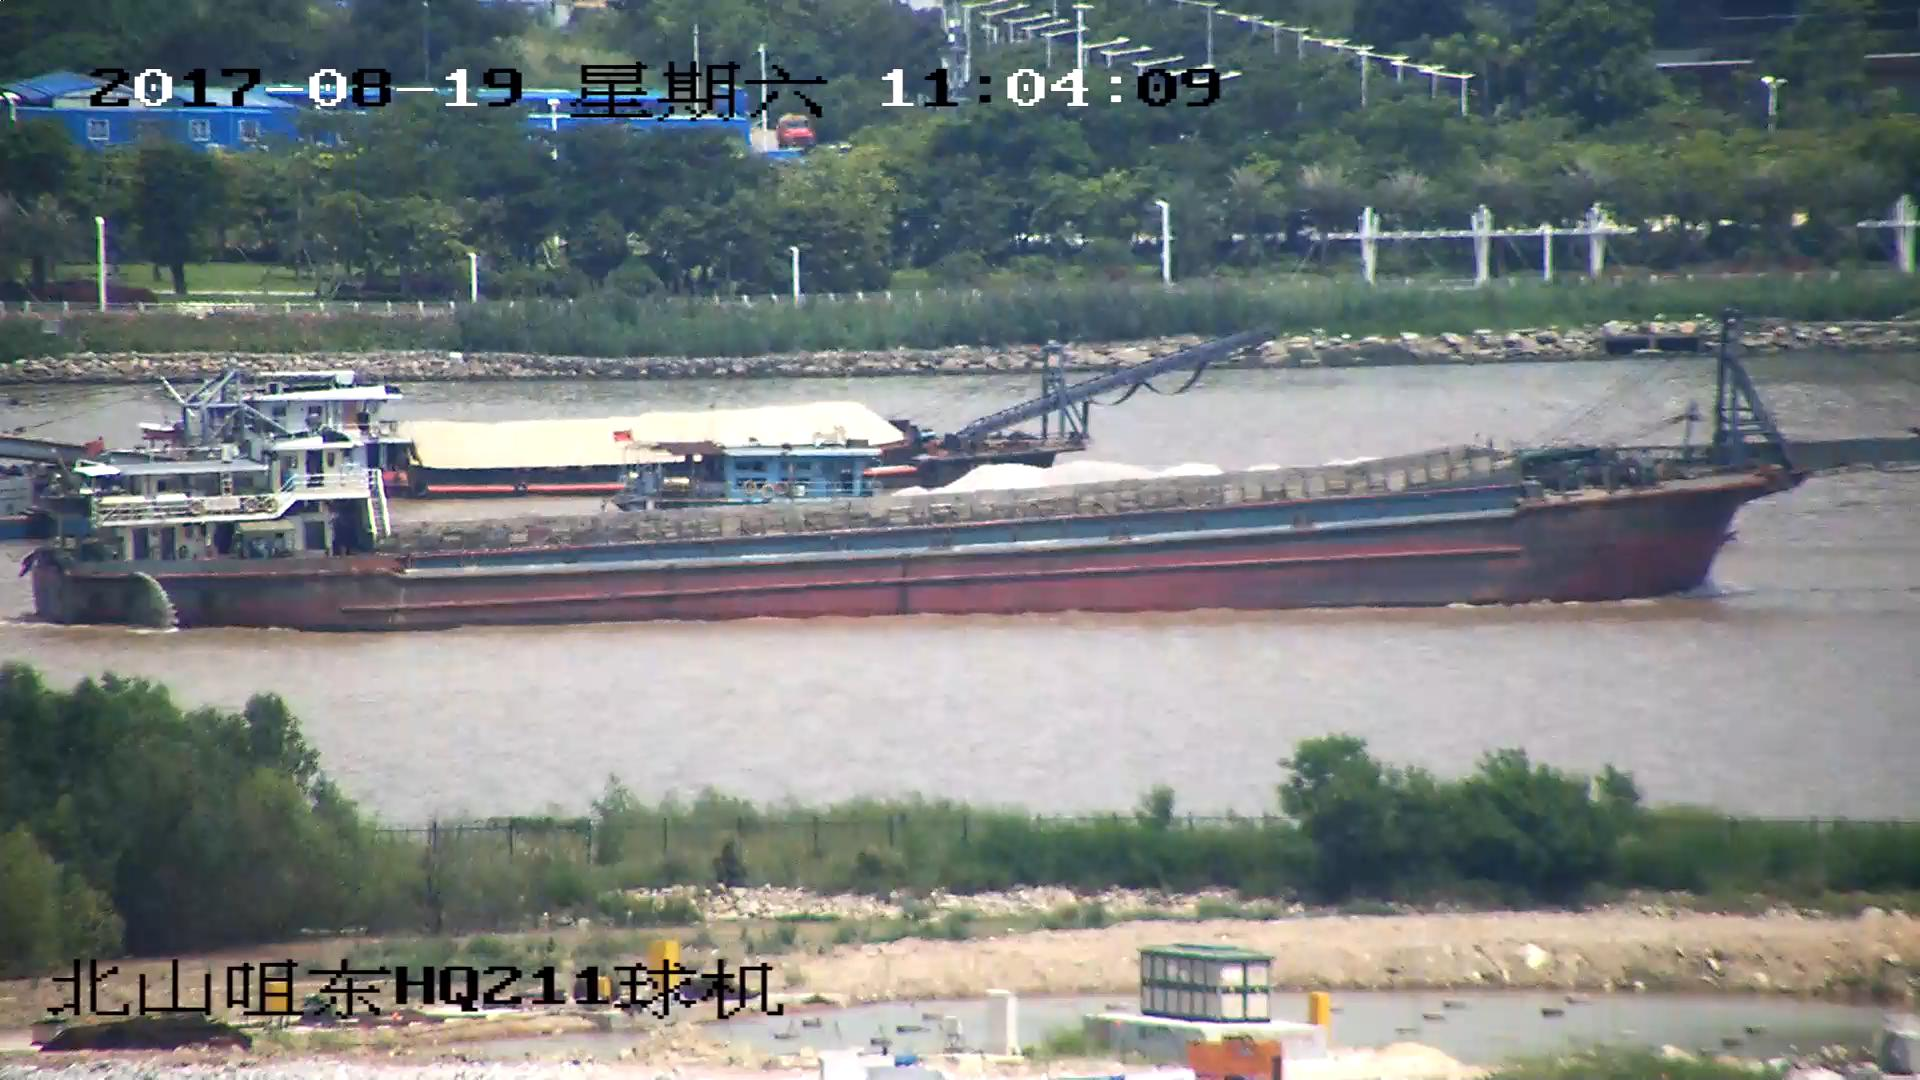bulk cargo carrier: (19, 318, 1920, 635)
ore carrier: (1, 328, 1278, 502), (610, 445, 1762, 509)
